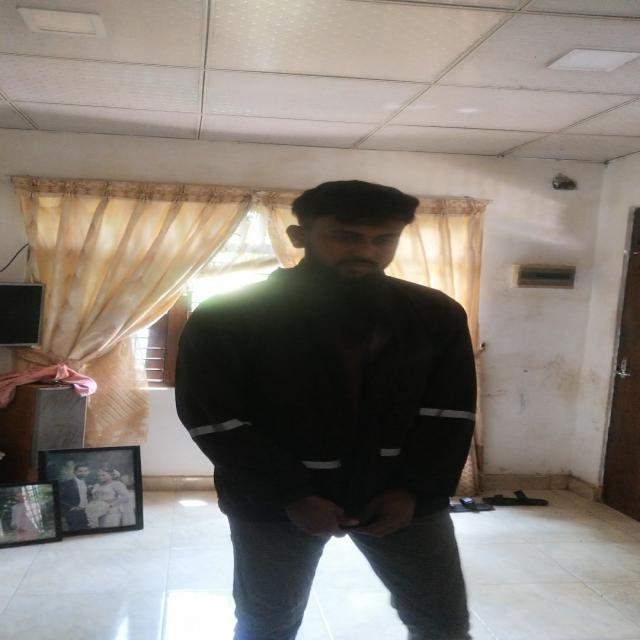Jacket_Wearer: (179, 263, 483, 534)
Person: (179, 170, 483, 640)
